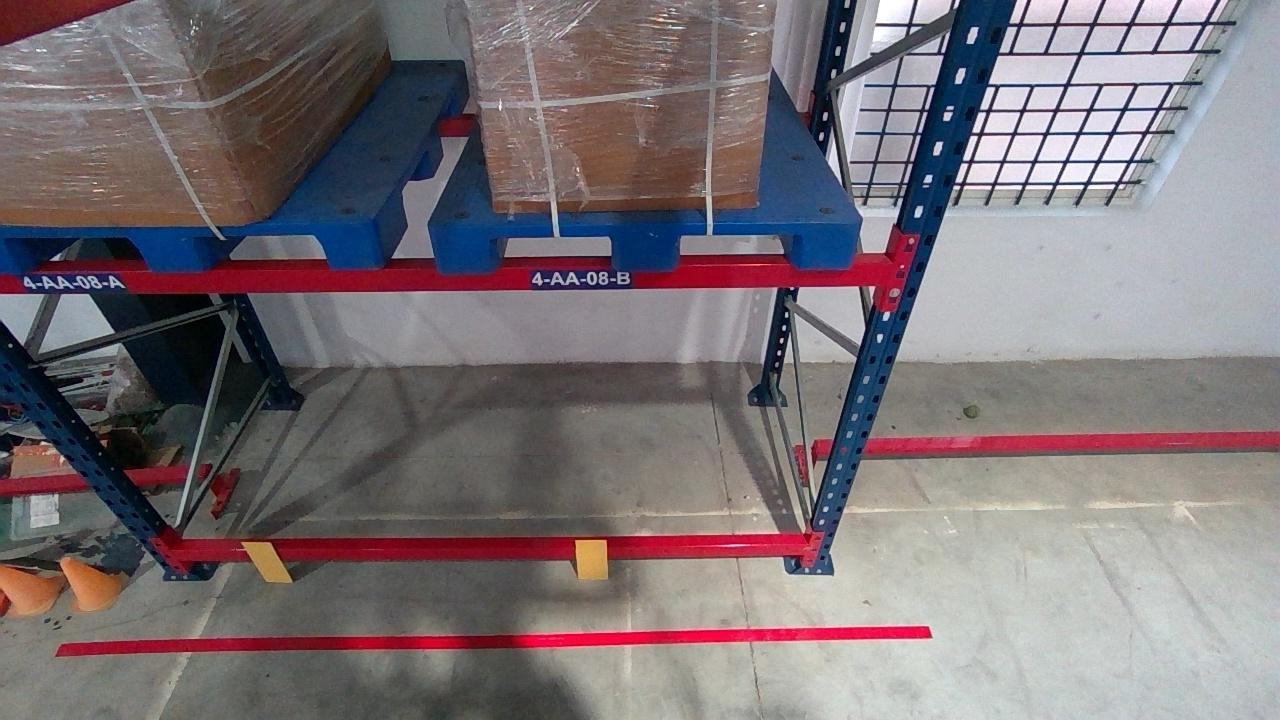h_rack: (3, 261, 902, 292), (169, 542, 810, 561)
orange_strip: (239, 541, 293, 581), (574, 539, 607, 578)
red_line: (50, 626, 934, 651)
small_pallet: (432, 220, 861, 267), (0, 222, 381, 270)
